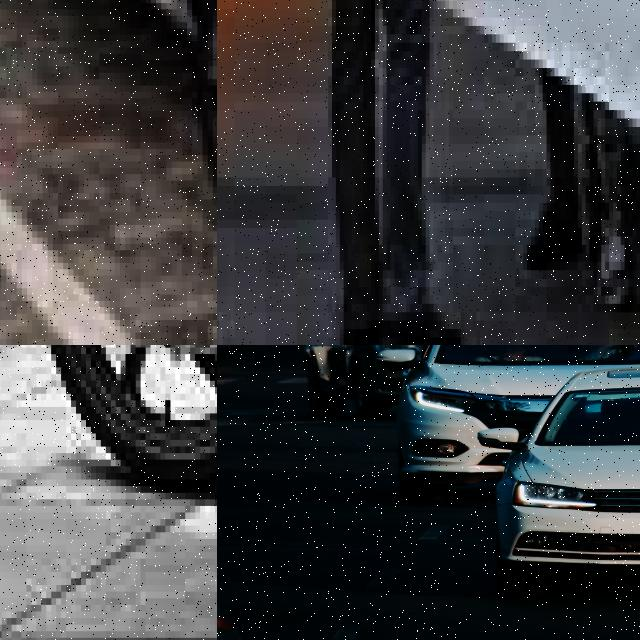bike: (0, 345, 217, 611)
car: (0, 0, 217, 187), (392, 345, 640, 503), (489, 371, 640, 600), (297, 345, 571, 421), (217, 477, 321, 640)
